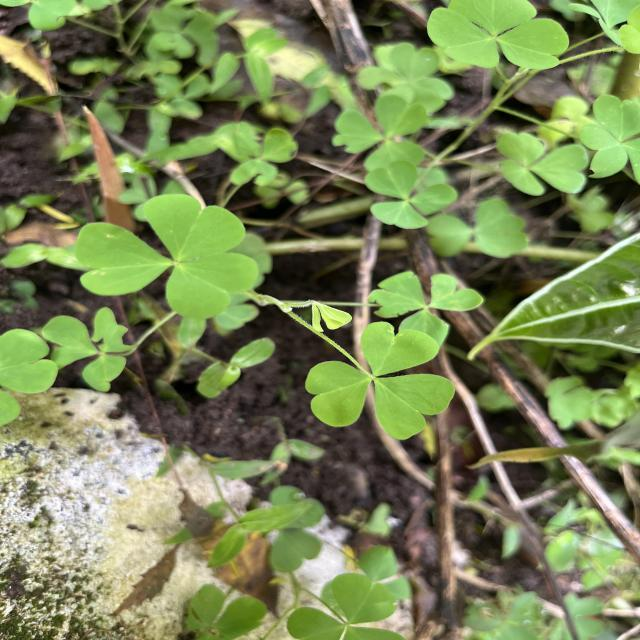Oxalis corniculata: (73, 192, 261, 321), (302, 320, 458, 441), (425, 0, 570, 71), (364, 160, 458, 230), (494, 131, 590, 197)
